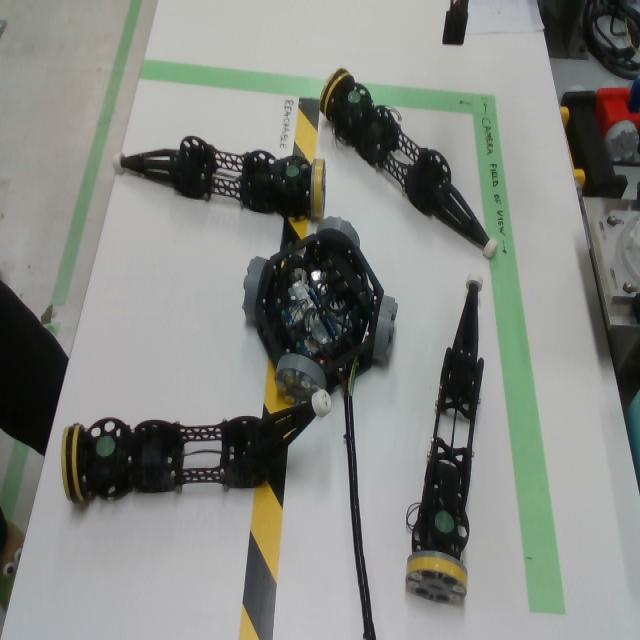body: (256, 235, 384, 392)
body_connector: (274, 353, 327, 405), (372, 296, 399, 369), (241, 256, 268, 324), (317, 216, 361, 248)
leg: (319, 68, 498, 260), (61, 389, 332, 504), (405, 272, 484, 605), (112, 136, 325, 217)
leg_connector: (405, 551, 467, 605), (61, 423, 95, 505), (319, 68, 355, 121), (310, 159, 327, 225)
leg_marker: (435, 509, 455, 535), (95, 435, 116, 459), (347, 89, 361, 104), (286, 165, 300, 177)
